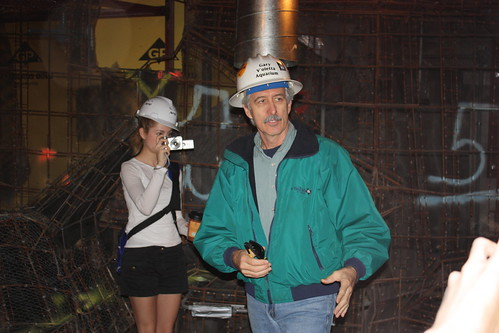person hardhat: (188, 54, 395, 333), (115, 97, 197, 333)
